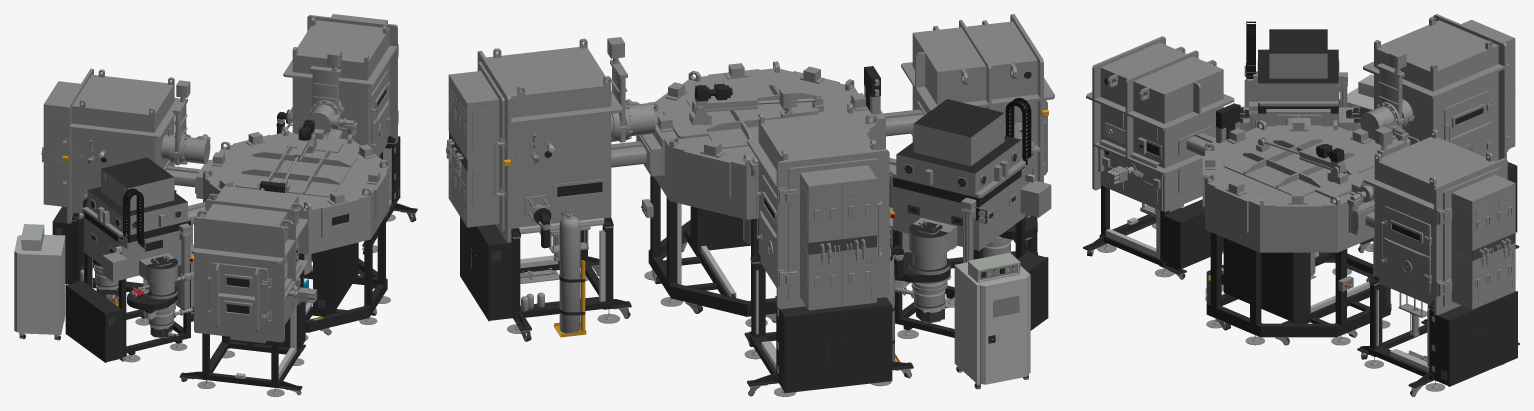
The model's file is ThinFilmDepositionSystem_02.fbx.
3 views of the same model, side by side, from view 1: azimuth 30°, elevation 25°; view 2: azimuth 150°, elevation 25°; view 3: azimuth 270°, elevation 25° (orthographic). The views are drawn at different scales.
Visible parts, largest first — view 1: TFDS_02, TFDS_Shake_Equib_02, TFDS_Shake_Equib_01, TFDS_Door_01_01; view 2: TFDS_02, TFDS_Shake_Equib_01, TFDS_Shake_Equib_02, TFDS_Door_01_02; view 3: TFDS_02, TFDS_Shake_Equib_01, TFDS_Shake_Equib_02, TFDS_Door_01_01, TFDS_Door_01_02.
Boxes of the visible parts, x1,y1,x2,y2 form: TFDS_02: (14, 119, 417, 396); TFDS_Shake_Equib_02: (41, 68, 210, 223); TFDS_Shake_Equib_01: (276, 14, 398, 156); TFDS_Door_01_01: (371, 71, 390, 153); TFDS_02: (460, 14, 1054, 396); TFDS_Shake_Equib_01: (446, 37, 655, 261); TFDS_Shake_Equib_02: (747, 87, 903, 310); TFDS_Door_01_02: (756, 175, 776, 276); TFDS_02: (1083, 21, 1519, 396); TFDS_Shake_Equib_01: (1347, 126, 1515, 336); TFDS_Shake_Equib_02: (1360, 14, 1515, 161); TFDS_Door_01_01: (1381, 206, 1430, 292); TFDS_Door_01_02: (1444, 90, 1493, 157).
Size of the model in its own units: 708 by 322 by 585.
Materials: 25 (1 with a texture image).
